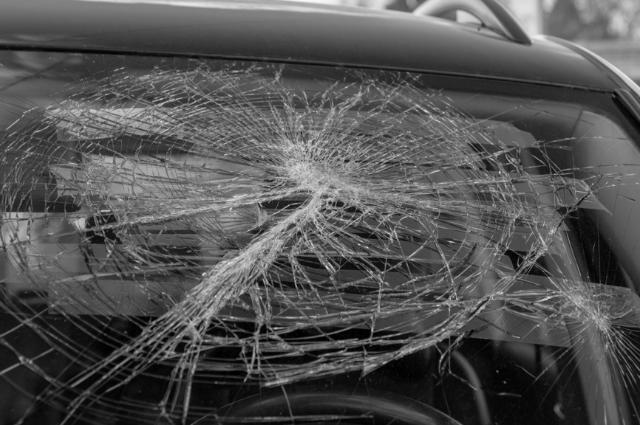Windshield: (4, 41, 640, 425)
